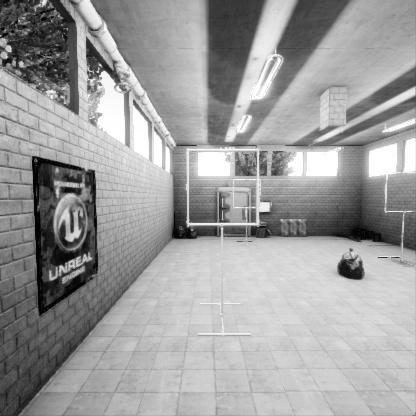gate: (188, 193, 263, 269), (389, 205, 416, 246), (233, 209, 262, 237)
